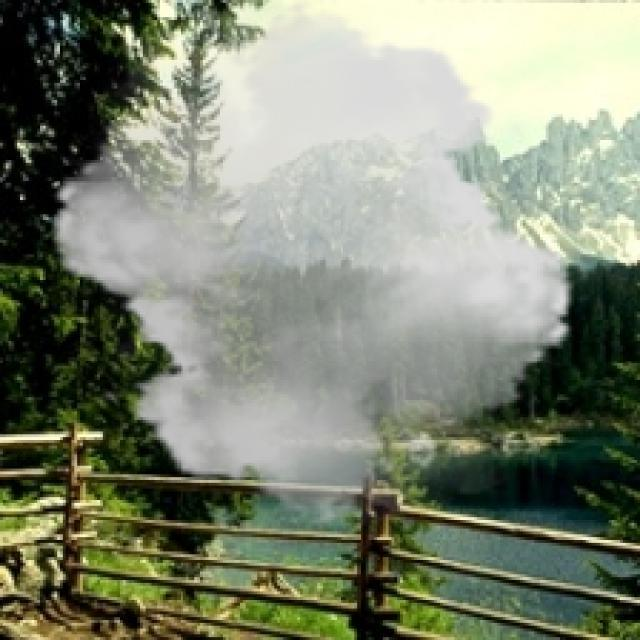smoke: (99, 142, 494, 453)
